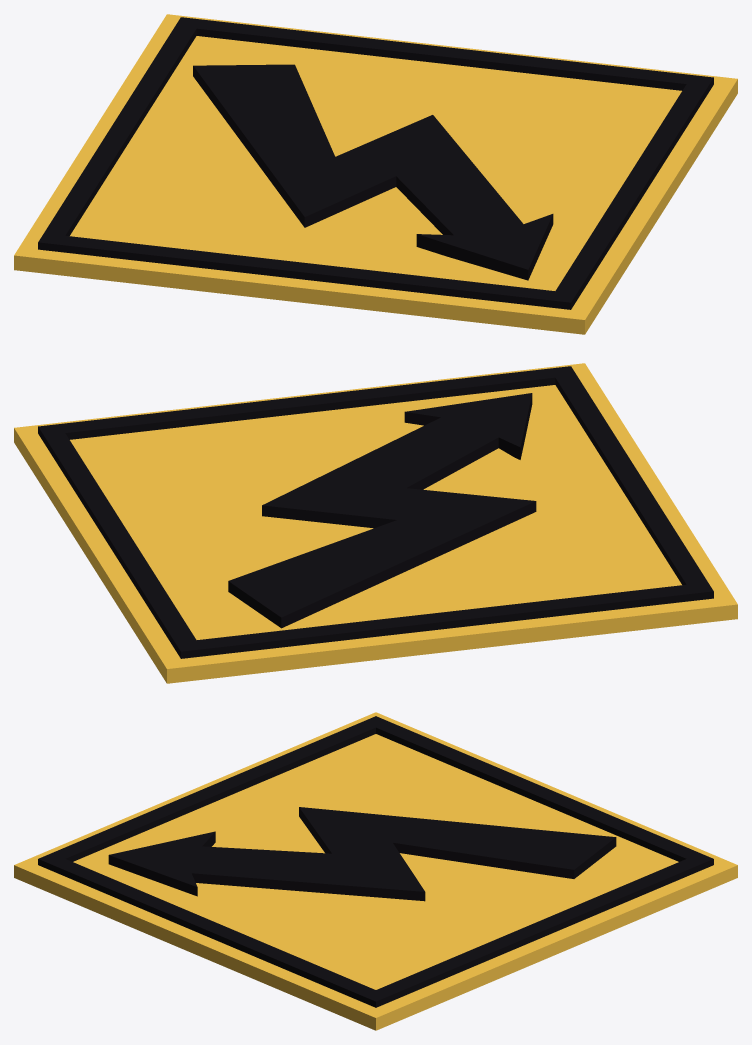
File: ElectricalWarningSign.fbx
The picture shows the model from 3 angles, top to bottom: view 1: azimuth 30°, elevation 25°; view 2: azimuth 150°, elevation 25°; view 3: azimuth 270°, elevation 25°; orthographic projection. The views are drawn at different scales.
Visible parts, largest first — view 1: ElectricWarningSign; view 2: ElectricWarningSign; view 3: ElectricWarningSign.
Part boxes in pixels (box(x1,y1,x2,y2)): ElectricWarningSign: box(14, 14, 737, 334); ElectricWarningSign: box(14, 363, 737, 683); ElectricWarningSign: box(14, 712, 737, 1030).
Size of the model in its own units: 283 by 10.56 by 283.
